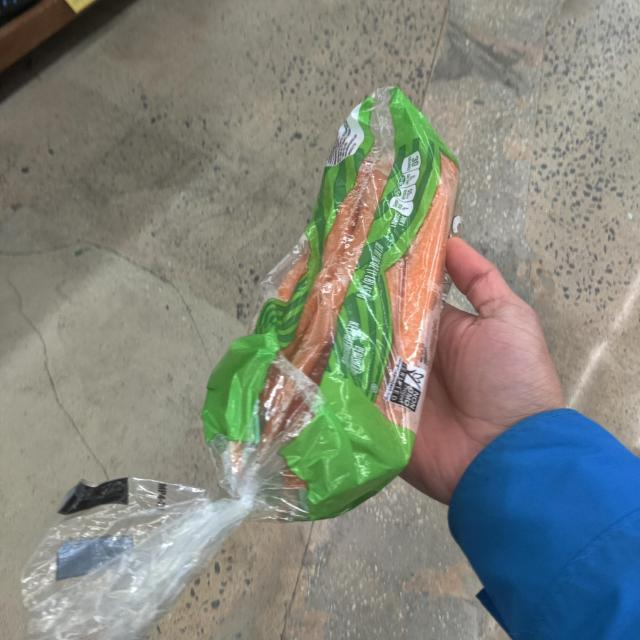Carrots: (217, 88, 466, 509)
